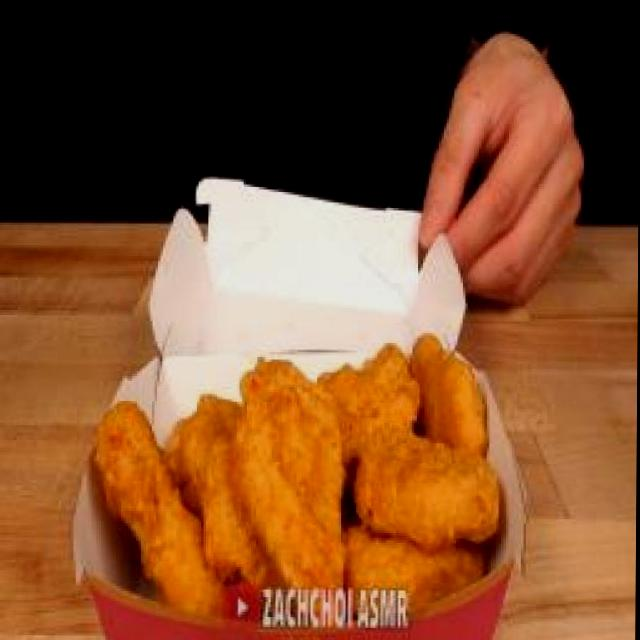nugget: (86, 286, 516, 640)
